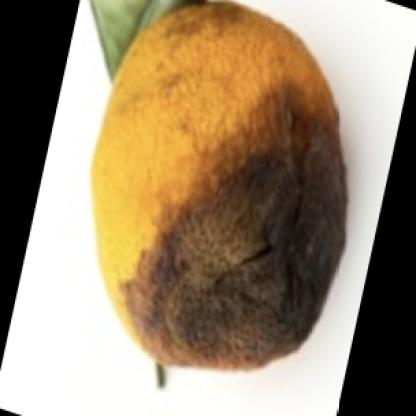rotten: (90, 1, 349, 393)
